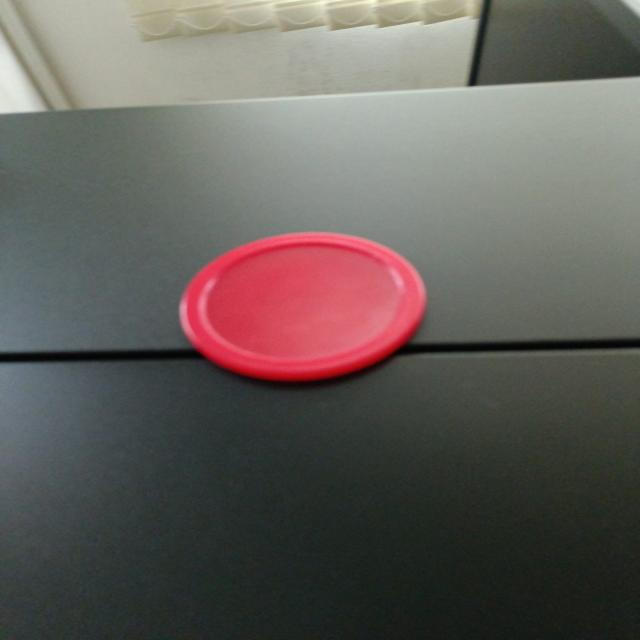chip: (174, 226, 434, 384)
